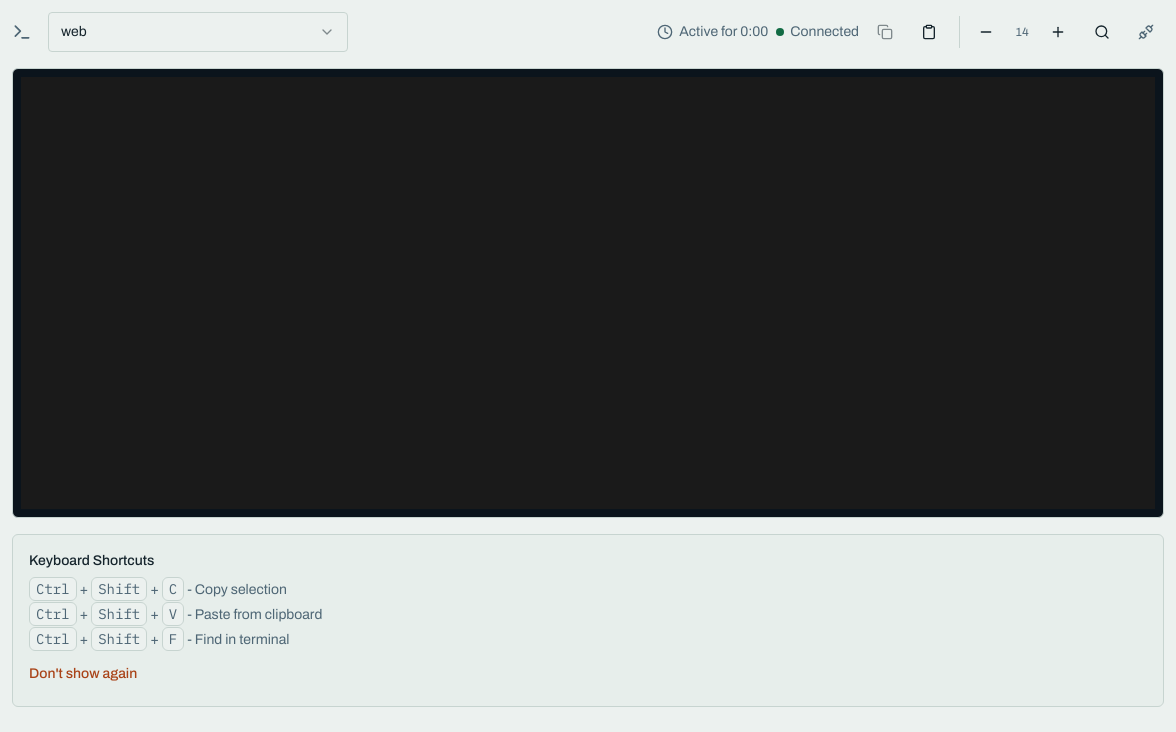
Scenario: TerminalComponent — switching containers › disconnects the current session and selects the new container
What coordinates should you click on to do the following:
click the dropdown
I would click on:
 (74, 32)
Its box is [48,12,348,52].
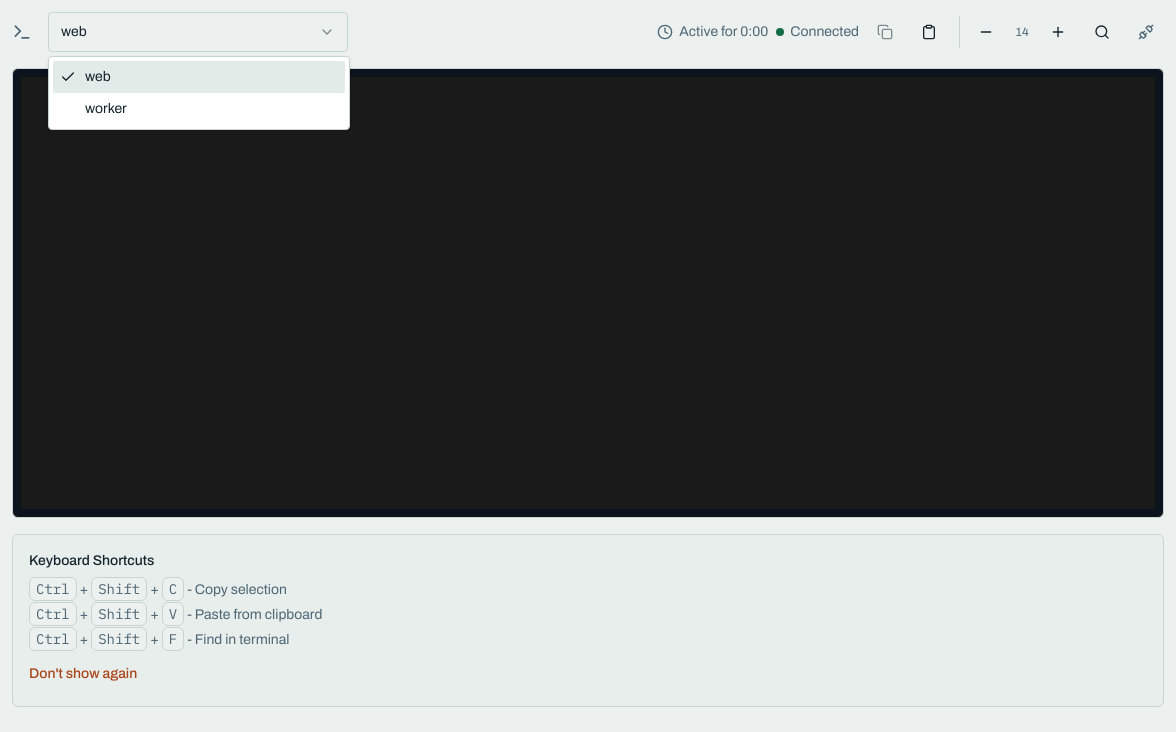
What coordinates should you click on to do the following:
click the option "worker"
I would click on:
 (106, 108)
Its box is [85,101,127,116].
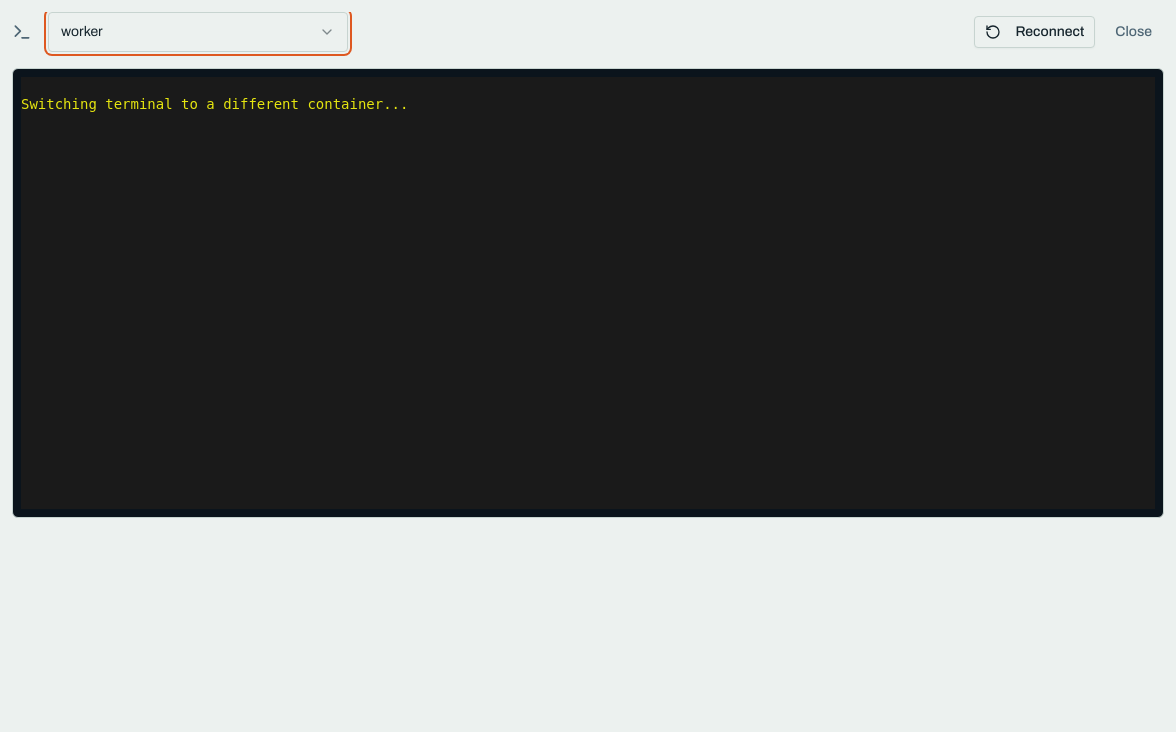
Result: the text "worker" is shown at [61,22,103,42]
Result: the button "Reconnect" is shown at [974,16,1095,48]
Result: the text "Connected" is gone
